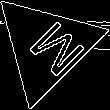M_SW: (12, 12, 81, 81)
